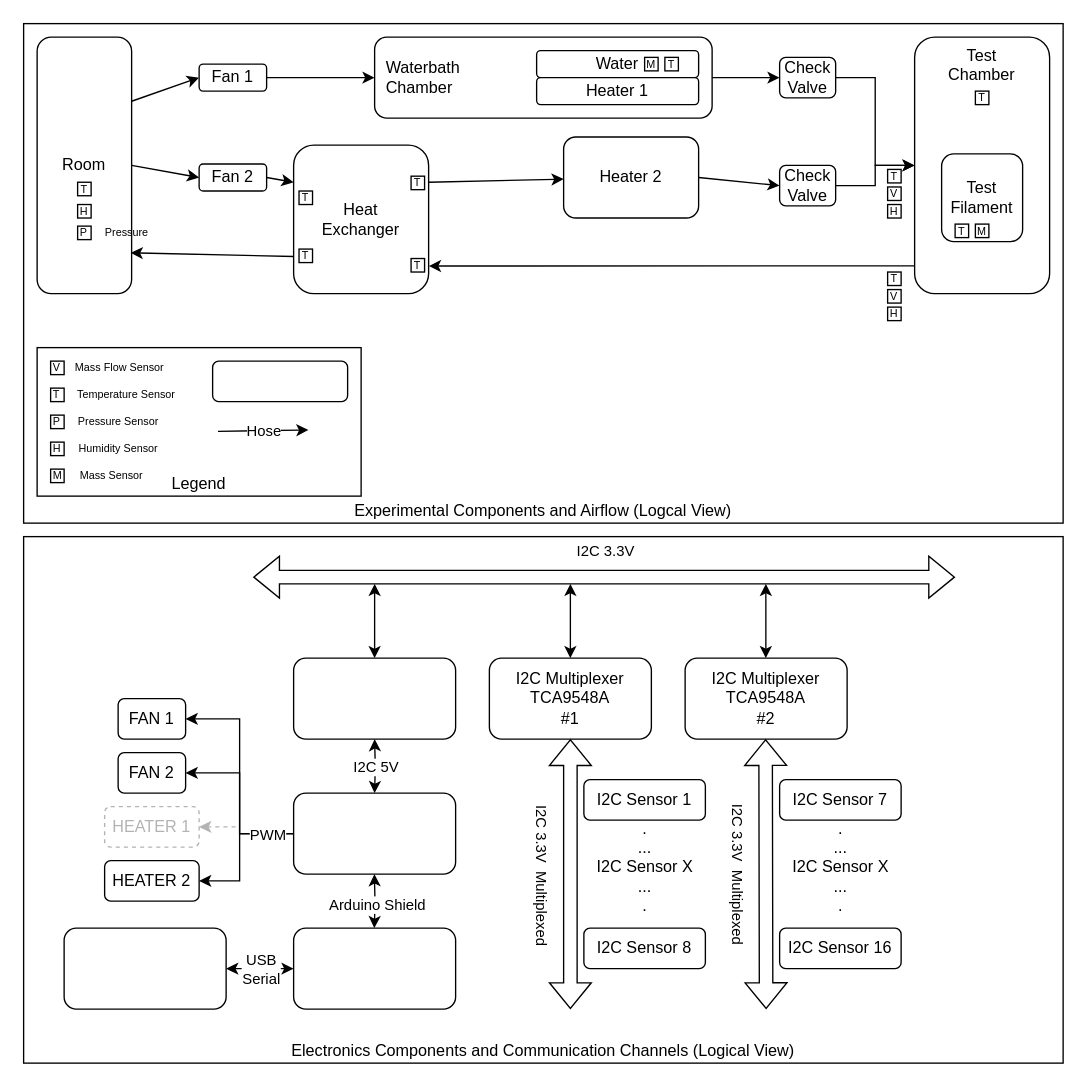
Some shapes in this 1087 by 1087 pixel diagram are drawn without their labels. The centre of each missing label's shape, as x and y in pixels:
Arduino MEGA: the point at 374,968
Component: the point at 279,381
Logic Level Shifter: the point at 374,698
RAMPS 1.4: the point at 374,833
Raspberry Pi 4: the point at 144,968
